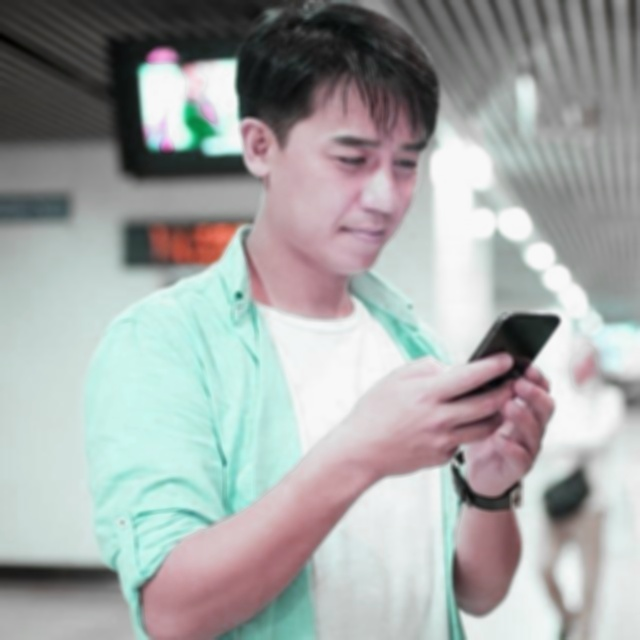Sin_Casco_Mascarrilla: (235, 0, 441, 272)
Sin_Chaleco: (87, 258, 463, 640)
